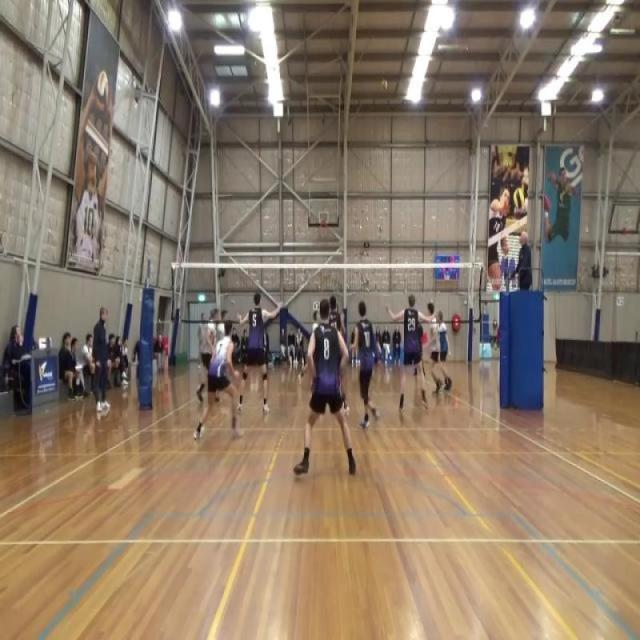volleyball: (96, 70, 108, 113), (513, 187, 524, 207), (381, 76, 388, 90)
